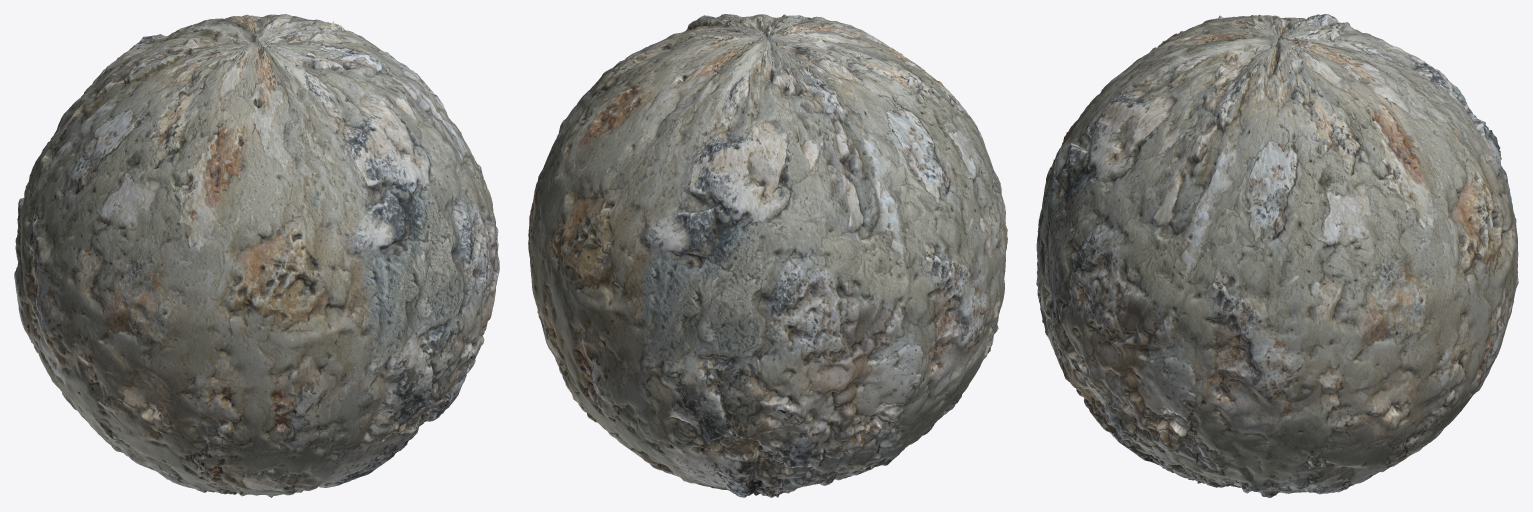
File: coral_fort_wall_01_1k.gltf
3 views of the same model, side by side, from view 1: azimuth 30°, elevation 25°; view 2: azimuth 150°, elevation 25°; view 3: azimuth 270°, elevation 25° (orthographic).
Parts seen in each view (by area): view 1: sphere_gltf; view 2: sphere_gltf; view 3: sphere_gltf.
Boxes of the visible parts, <box> form: sphere_gltf: <box>14,14,499,497</box>; sphere_gltf: <box>528,14,1007,497</box>; sphere_gltf: <box>1036,14,1518,497</box>.
Size of the model in its own units: 1.41 by 1.4 by 1.39.
1 material, 1 textured.
